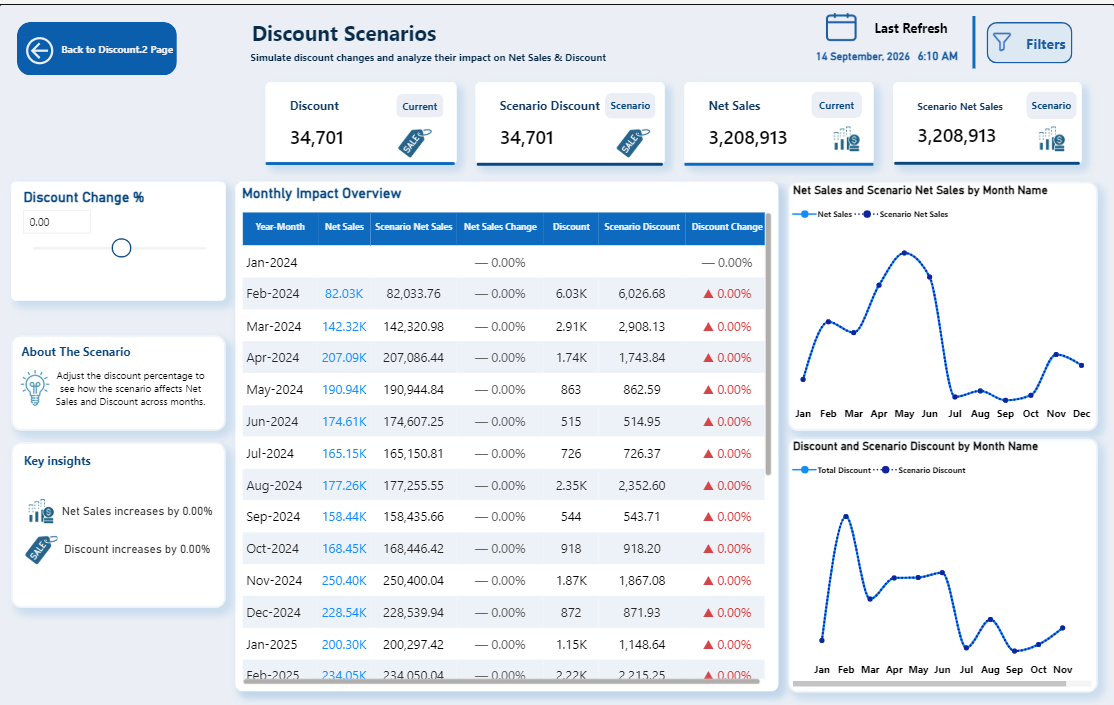

The page's visual inventory and layout, read from the dashboard file:
{"tool":"powerbi","page":{"name":"What if Analysis discount","canvas":[1508,957],"ordinal":15},"visuals":[{"type":"image","box":[1099.7,0.5,74.8,60.2],"z":0,"group":"g17"},{"type":"actionButton","box":[336,16,458.3,47.1],"z":0,"group":"g12"},{"type":"shape","box":[24,24,216,72],"z":0,"group":"g14"},{"type":"shape","box":[1334.1,24.9,116,56],"z":0,"group":"g16"},{"type":"card","fields":{"Values":["Min(Refresh Date.Date)"]},"box":[1087.1,47.7,158.6,49.1],"z":0,"group":"g9"},{"type":"group","id":"g1","title":"Group 4","box":[360,106,257.9,118.3],"z":0,"group":"g18"},{"type":"cardVisual","fields":{"Data":["Dax_Meausres.Total Discount"]},"box":[360,106,257.9,112],"z":0,"group":"g2"},{"type":"group","id":"g2","title":"Group 1","box":[360,106,257.9,118.3],"z":0,"group":"g1"},{"type":"cardVisual","fields":{"Data":["Dax_Meausres.Scenario Discount"]},"box":[643.7,106,256,112],"z":0,"group":"g3"},{"type":"group","id":"g3","title":"Group 2","box":[643.7,106,256,119.3],"z":0,"group":"g4"},{"type":"group","id":"g4","title":"Group 5","box":[643.7,106,256,119.3],"z":0,"group":"g19"},{"type":"cardVisual","fields":{"Data":["Dax_Meausres.Net Sales"]},"box":[925.6,106,256,112],"z":0,"group":"g6"},{"type":"group","id":"g5","title":"Group 6","box":[925.6,106,256,119.3],"z":0,"group":"g20"},{"type":"group","id":"g6","title":"Group 3","box":[925.6,106,256,119.3],"z":0,"group":"g5"},{"type":"cardVisual","fields":{"Data":["Dax_Meausres.Scenario Net Sales"]},"box":[1207.5,106,254.9,112],"z":0,"group":"g7"},{"type":"group","id":"g7","title":"Group 2","box":[1207.5,106,254.9,119.3],"z":0,"group":"g8"},{"type":"group","id":"g8","title":"Group 7","box":[1207.5,106,254.9,119.3],"z":0,"group":"g21"},{"type":"slicer","fields":{"Values":["Discount IF .Discount IF "]},"box":[15.5,239.9,289.9,160.5],"z":0},{"type":"shape","box":[15.5,447,289.9,129.4],"z":0,"group":"g13"},{"type":"shape","box":[15.5,592,289.9,224.4],"z":0,"group":"g15"},{"type":"card","fields":{"Values":["Dax_Meausres.Net Sales Insight"]},"box":[77.2,660,217.5,51.8],"z":0,"group":"g10"},{"type":"card","fields":{"Values":["Dax_Meausres.Discount Insight"]},"box":[77.2,716.5,217.5,42.1],"z":0,"group":"g11"},{"type":"image","box":[1335.6,28.9,38.2,48],"z":1000,"group":"g16"},{"type":"actionButton","box":[30,38,48,48],"z":1000,"group":"g14"},{"type":"group","id":"g9","title":"Group 7","box":[1087.1,47.7,223.4,49.1],"z":1000,"group":"g17"},{"type":"card","fields":{"Values":["Min(Refresh Date.Time)"]},"box":[1225.6,47.7,85,49.1],"z":1000,"group":"g9"},{"type":"actionButton","box":[336,56,512,31],"z":1000,"group":"g12"},{"type":"shape","box":[1098,118.5,68.3,35.5],"z":1000,"group":"g5"},{"type":"shape","box":[1386.6,119.1,68.3,37.3],"z":1000,"group":"g8"},{"type":"shape","box":[818.6,119.8,68.6,35],"z":1000,"group":"g4"},{"type":"shape","box":[536,122,64,32],"z":1000,"group":"g1"},{"type":"image","box":[1121.3,160,48,48],"z":1000,"group":"g20"},{"type":"image","box":[1398.3,160,48,48],"z":1000,"group":"g21"},{"type":"image","box":[538.4,167,48,42],"z":1000,"group":"g18"},{"type":"image","box":[833.3,167,48,42],"z":1000,"group":"g19"},{"type":"shape","box":[1209.6,206.6,250.7,18.7],"z":1000,"group":"g7"},{"type":"shape","box":[645.8,207.3,251.7,18],"z":1000,"group":"g3"},{"type":"shape","box":[925.6,207.3,256,18],"z":1000,"group":"g6"},{"type":"shape","box":[360,208.3,256,16],"z":1000,"group":"g2"},{"type":"actionButton","box":[63.8,485.4,225.5,64.7],"z":1000,"group":"g13"},{"type":"lineChart","title":"Discount and Scenario Discount by Month Name","fields":{"Category":["Dim_Date.Month Name"],"Y":["Dax_Meausres.Total Discount","Dax_Meausres.Scenario Discount"]},"box":[1064.8,585.1,419.4,345.2],"z":1000},{"type":"group","id":"g10","title":"Group 9","box":[34.5,660,260.2,51.8],"z":1000,"group":"g15"},{"type":"image","box":[34.5,660,43.5,51.8],"z":1000,"group":"g10"},{"type":"image","box":[34.5,715,43.5,45.3],"z":1000,"group":"g11"},{"type":"actionButton","box":[1163.9,12.6,136.1,40.1],"z":2000,"group":"g17"},{"type":"lineChart","fields":{"Category":["Dim_Date.Month Name"],"Y":["Dax_Meausres.Net Sales","Dax_Meausres.Scenario Net Sales"]},"box":[1064.8,239.9,419.4,336.5],"z":2000},{"type":"image","box":[15.5,493.5,64.4,48.5],"z":2000,"group":"g13"},{"type":"group","id":"g11","title":"Group 10","box":[34.5,715,260.2,45.3],"z":2000,"group":"g15"},{"type":"tableEx","title":"Monthly Impact Overview","fields":{"Values":["Dim_Date.Year-Month","Dax_Meausres.Net Sales","Dax_Meausres.Scenario Net Sales","Dax_Meausres.Net Sales Change","Dax_Meausres.Total Discount","Dax_Meausres.Scenario Discount","Dax_Meausres.Discount Change"]},"box":[319.3,239.9,733.5,688.6],"z":3000},{"type":"group","id":"g12","title":"Group 5","box":[336,16,512,71],"z":4000},{"type":"group","id":"g13","title":"Group 8","box":[15.5,447,289.9,129.4],"z":5000},{"type":"group","id":"g14","title":"Group 3","box":[24,24,216,72],"z":6000},{"type":"group","id":"g15","title":"Group 11","box":[15.5,592,289.9,224.4],"z":7000},{"type":"shape","box":[1304.7,15.5,24.2,70.8],"z":8000},{"type":"group","id":"g16","title":"Group 13","box":[1334.1,24.9,116,56],"z":9000},{"type":"group","id":"g17","title":"Group 8","box":[1087.1,0.5,223.4,96.3],"z":10000},{"type":"group","id":"g18","title":"Group 12","box":[360,106,257.9,118.3],"z":11000},{"type":"group","id":"g19","title":"Group 14","box":[643.7,106,256,119.3],"z":12000},{"type":"group","id":"g20","title":"Group 16","box":[925.6,106,256,119.3],"z":13000},{"type":"group","id":"g21","title":"Group 17","box":[1207.5,106,254.9,119.3],"z":14000}]}

Visuals, with their boxes in screenshot pixels (x1, y1, x2, y2), scaled from the page's 1508x957 canvas onto the 1114x705 screenshot:
image: crop(812, 0, 868, 45)
actionButton: crop(248, 12, 587, 46)
shape: crop(18, 18, 177, 71)
shape: crop(986, 18, 1071, 60)
card - Min(Refresh Date.Date): crop(803, 35, 920, 71)
"Group 4" group: crop(266, 78, 456, 165)
cardVisual - Dax_Meausres.Total Discount: crop(266, 78, 456, 161)
"Group 1" group: crop(266, 78, 456, 165)
cardVisual - Dax_Meausres.Scenario Discount: crop(476, 78, 665, 161)
"Group 2" group: crop(476, 78, 665, 166)
"Group 5" group: crop(476, 78, 665, 166)
cardVisual - Dax_Meausres.Net Sales: crop(684, 78, 873, 161)
"Group 6" group: crop(684, 78, 873, 166)
"Group 3" group: crop(684, 78, 873, 166)
cardVisual - Dax_Meausres.Scenario Net Sales: crop(892, 78, 1080, 161)
"Group 2" group: crop(892, 78, 1080, 166)
"Group 7" group: crop(892, 78, 1080, 166)
slicer - Discount IF .Discount IF : crop(11, 177, 226, 295)
shape: crop(11, 329, 226, 425)
shape: crop(11, 436, 226, 601)
card - Dax_Meausres.Net Sales Insight: crop(57, 486, 218, 524)
card - Dax_Meausres.Discount Insight: crop(57, 528, 218, 559)
image: crop(987, 21, 1015, 57)
actionButton: crop(22, 28, 58, 63)
"Group 7" group: crop(803, 35, 968, 71)
card - Min(Refresh Date.Time): crop(905, 35, 968, 71)
actionButton: crop(248, 41, 626, 64)
shape: crop(811, 87, 862, 113)
shape: crop(1024, 88, 1075, 115)
shape: crop(605, 88, 655, 114)
shape: crop(396, 90, 443, 113)
image: crop(828, 118, 864, 153)
image: crop(1033, 118, 1068, 153)
image: crop(398, 123, 433, 154)
image: crop(616, 123, 651, 154)
shape: crop(894, 152, 1079, 166)
shape: crop(477, 153, 663, 166)
shape: crop(684, 153, 873, 166)
shape: crop(266, 153, 455, 165)
actionButton: crop(47, 358, 214, 405)
"Discount and Scenario Discount by Month Name" lineChart: crop(787, 431, 1096, 685)
"Group 9" group: crop(25, 486, 218, 524)
image: crop(25, 486, 58, 524)
image: crop(25, 527, 58, 560)
actionButton: crop(860, 9, 960, 39)
lineChart - Dim_Date.Month Name x Dax_Meausres.Net Sales: crop(787, 177, 1096, 425)
image: crop(11, 364, 59, 399)
"Group 10" group: crop(25, 527, 218, 560)
"Monthly Impact Overview" tableEx: crop(236, 177, 778, 684)
"Group 5" group: crop(248, 12, 626, 64)
"Group 8" group: crop(11, 329, 226, 425)
"Group 3" group: crop(18, 18, 177, 71)
"Group 11" group: crop(11, 436, 226, 601)
shape: crop(964, 11, 982, 64)
"Group 13" group: crop(986, 18, 1071, 60)
"Group 8" group: crop(803, 0, 968, 71)
"Group 12" group: crop(266, 78, 456, 165)
"Group 14" group: crop(476, 78, 665, 166)
"Group 16" group: crop(684, 78, 873, 166)
"Group 17" group: crop(892, 78, 1080, 166)
